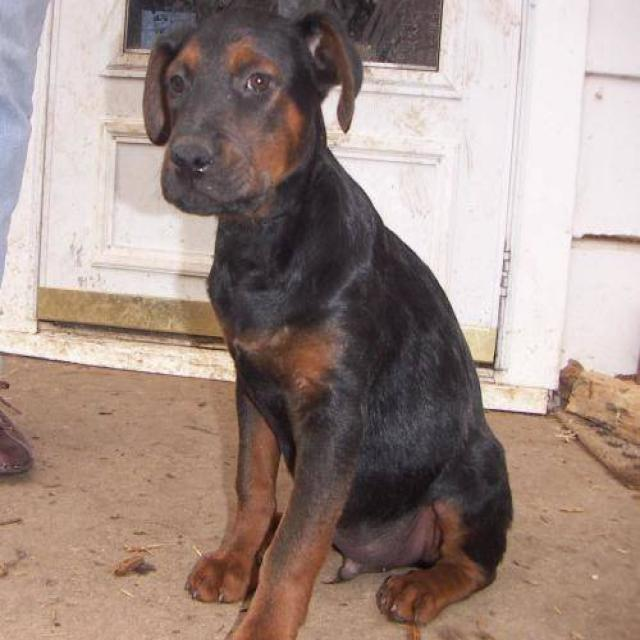dog: (140, 0, 514, 639)
